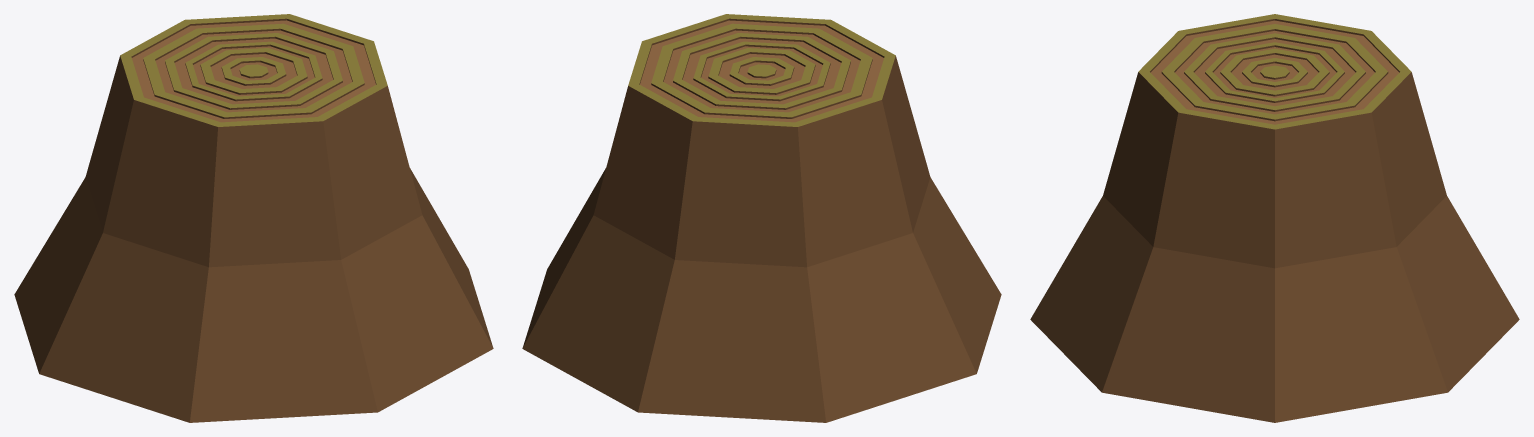
Rendered from STUMP.fbx.
3 views of the same model, side by side, from view 1: azimuth 30°, elevation 25°; view 2: azimuth 150°, elevation 25°; view 3: azimuth 270°, elevation 25° (orthographic).
Visible parts, largest first — view 1: Cylinder; view 2: Cylinder; view 3: Cylinder.
Boxes of the visible parts, x1=… form: Cylinder: x1=14, y1=14, x2=493, y2=422; Cylinder: x1=522, y1=14, x2=1001, y2=422; Cylinder: x1=1030, y1=14, x2=1519, y2=422.
Size of the model in its own units: 358 by 200 by 358.
